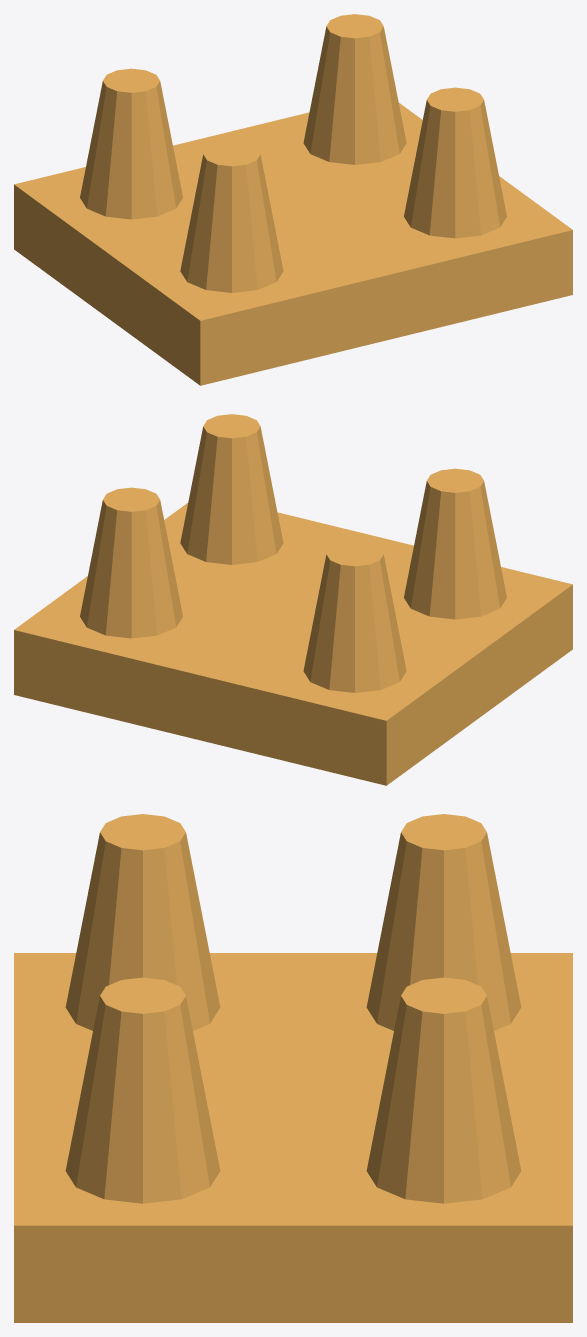
The model's file is american-football-stadium-kit-kicking-tee-29c5870b__22374.glb.
3 views of the same model, one above another, from view 1: azimuth 30°, elevation 25°; view 2: azimuth 150°, elevation 25°; view 3: azimuth 270°, elevation 25° (orthographic). The views are drawn at different scales.
Parts seen in each view (by area): view 1: kicking-tee; view 2: kicking-tee; view 3: kicking-tee.
Part boxes in pixels (bbox=[...]): kicking-tee: bbox=[14, 14, 572, 385]; kicking-tee: bbox=[14, 414, 572, 785]; kicking-tee: bbox=[14, 814, 572, 1322].
Size of the model in its own units: 0.15 by 0.07 by 0.13.
